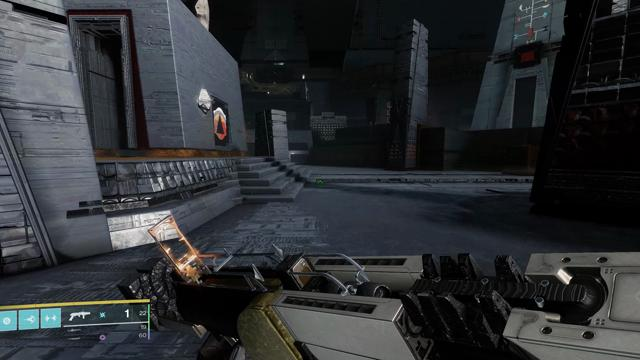pyramid: (213, 107, 227, 140)
